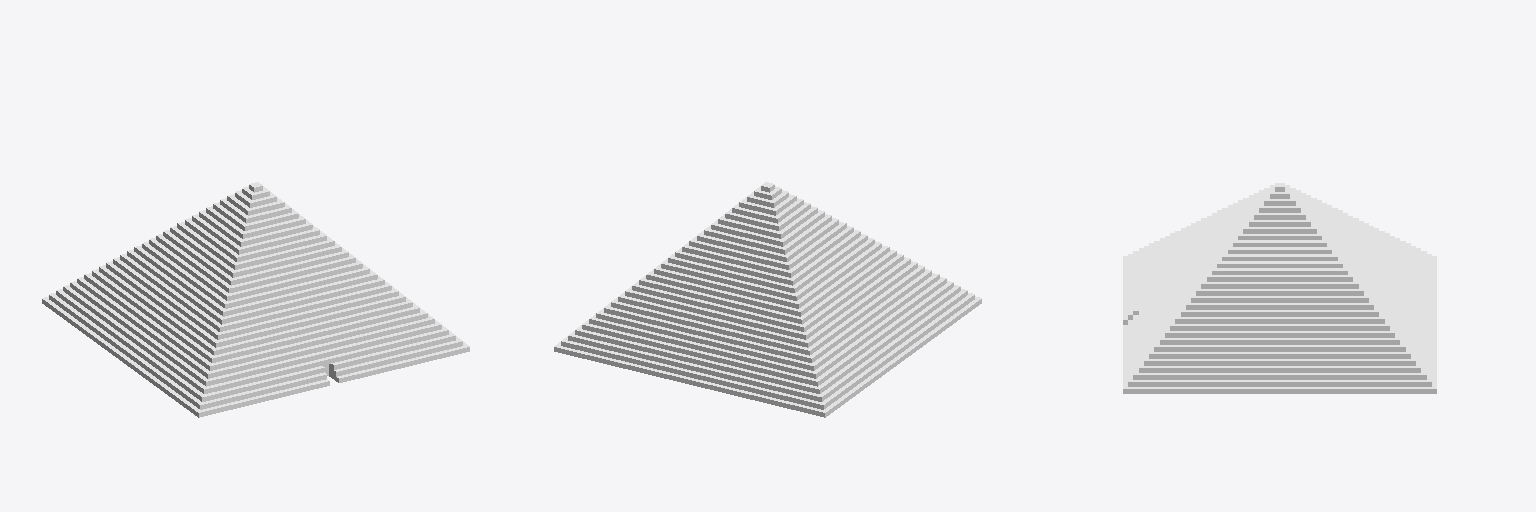
Rendered from piramid.obj.
The picture shows the model from 3 angles: view 1: azimuth 30°, elevation 25°; view 2: azimuth 150°, elevation 25°; view 3: azimuth 270°, elevation 25°; orthographic projection.
Parts seen in each view (by area): view 1: object 1; view 2: object 1; view 3: object 1.
Part boxes in pixels (x1,y1,x2,y2): object 1: (42, 182, 469, 417); object 1: (554, 182, 981, 417); object 1: (1123, 183, 1436, 393).
Size of the model in its own units: 12 by 6 by 12.